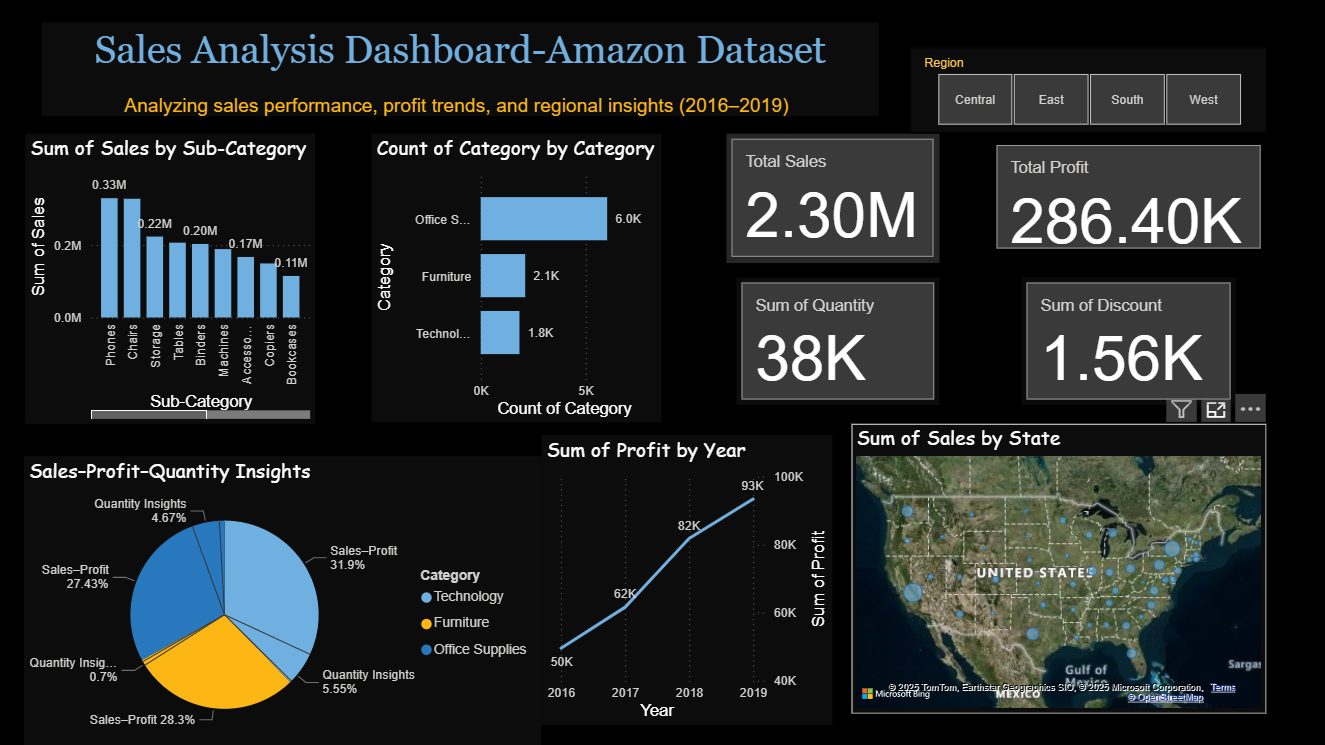

The page's visual inventory and layout, read from the dashboard file:
{"tool":"powerbi","page":{"name":"Page 1","canvas":[1280,720],"ordinal":0},"visuals":[{"type":"lineChart","fields":{"Y2":["Sum(Orders.Profit)"],"Category":["Orders.Order Date.Variation.Date Hierarchy.Year","Orders.Order Date.Variation.Date Hierarchy.Month"]},"box":[523.6,419.8,281.1,279.9],"z":0},{"type":"columnChart","fields":{"Category":["Orders.Sub-Category"],"Y":["Sum(Orders.Sales)"]},"box":[25.7,128.6,280.1,280.1],"z":1000},{"type":"map","fields":{"Category":["Orders.State"],"Size":["Sum(Orders.Sales)"]},"box":[822.8,409,400.5,279.9],"z":2000},{"type":"clusteredBarChart","fields":{"Category":["Orders.Category"],"Y":["CountNonNull(Orders.Category)"]},"box":[360,128.6,280.1,278.8],"z":3000},{"type":"pieChart","title":"Sales–Profit–Quantity Insights","fields":{"Y":["Sum(Orders.Sales)","Sum(Orders.Profit)","Sum(Orders.Quantity)"],"Category":["Orders.Category"]},"box":[24.1,440.4,499.5,279.9],"z":4000},{"type":"slicer","fields":{"Values":["Orders.Region"]},"box":[879.7,46,343.8,82.6],"z":5000},{"type":"cardVisual","fields":{"Data":["Sum(Orders.Quantity)"]},"box":[711.9,268,196.2,123.2],"z":6000},{"type":"cardVisual","fields":{"Data":["Sum(Orders.Profit)"]},"box":[958.2,135.3,265.3,111],"z":7000},{"type":"cardVisual","fields":{"Data":["Sum(Orders.Discount)"]},"box":[986.6,268,207.1,123.2],"z":8000},{"type":"cardVisual","fields":{"Data":["Sum(Orders.Sales)"]},"box":[702.4,128.6,205.7,124.5],"z":9000},{"type":"textbox","box":[41,21.7,808.3,90.5],"z":10000},{"type":"textbox","box":[100.1,86.9,682.8,65.1],"z":10001}]}

Visuals, with their boxes in screenshot pixels (x1, y1, x2, y2), scaled from the page's 1280x720 canvas onto the 1325x745 screenshot:
lineChart - Sum(Orders.Profit) x Orders.Order Date.Variation.Date Hierarchy.Year: (542, 434, 833, 724)
columnChart - Orders.Sub-Category x Sum(Orders.Sales): (27, 133, 317, 423)
map - Orders.State x Sum(Orders.Sales): (852, 423, 1266, 713)
clusteredBarChart - Orders.Category x CountNonNull(Orders.Category): (373, 133, 663, 422)
"Sales–Profit–Quantity Insights" pieChart: (25, 456, 542, 744)
slicer - Orders.Region: (911, 48, 1267, 133)
cardVisual - Sum(Orders.Quantity): (737, 277, 940, 405)
cardVisual - Sum(Orders.Profit): (992, 140, 1267, 255)
cardVisual - Sum(Orders.Discount): (1021, 277, 1236, 405)
cardVisual - Sum(Orders.Sales): (727, 133, 940, 262)
textbox: (42, 22, 879, 116)
textbox: (104, 90, 810, 157)
